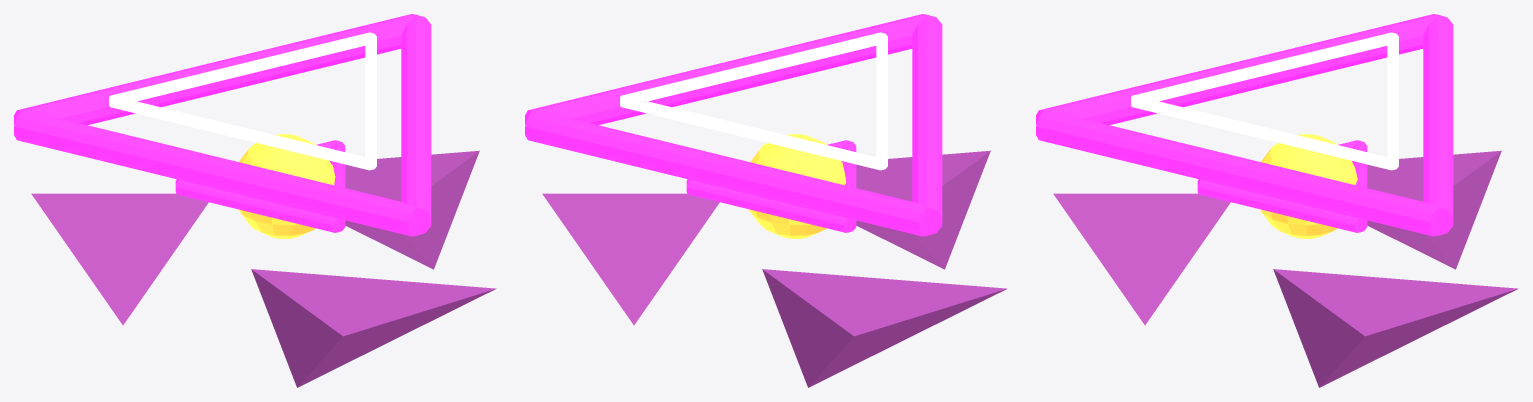
The model's file is triad_splitter.glb.
The picture shows the model from 3 angles, left to right: view 1: azimuth 30°, elevation 25°; view 2: azimuth 150°, elevation 25°; view 3: azimuth 270°, elevation 25°; orthographic projection.
Parts seen in each view (by area): view 1: TriadShard0, TriadReadabilityTriangleRoute2, TriadShard2, TriadReadabilityTriangleRoute1, TriadShard1, TriadReadabilityTriangleRoute0, TriadReadabilityWhiteRoute2, TriadOrangeCore, TriadReadabilityWhiteRoute1, TriadShardEdge02, TriadReadabilityWhiteRoute0, TriadShardEdge00; view 2: TriadShard2, TriadReadabilityTriangleRoute1, TriadShard1, TriadReadabilityTriangleRoute0, TriadShard0, TriadReadabilityTriangleRoute2, TriadReadabilityWhiteRoute1, TriadOrangeCore, TriadReadabilityWhiteRoute0, TriadShardEdge01, TriadReadabilityWhiteRoute2, TriadShardEdge02; view 3: TriadShard1, TriadReadabilityTriangleRoute0, TriadShard0, TriadReadabilityTriangleRoute2, TriadShard2, TriadReadabilityTriangleRoute1, TriadOrangeCore, TriadReadabilityWhiteRoute0, TriadReadabilityWhiteRoute2, TriadShardEdge00, TriadReadabilityWhiteRoute1, TriadShardEdge01.
Boxes of the visible parts, <box> form: TriadShard0: <box>251,269,496,387</box>; TriadReadabilityTriangleRoute2: <box>14,111,416,236</box>; TriadShard2: <box>31,193,208,325</box>; TriadReadabilityTriangleRoute1: <box>14,14,415,125</box>; TriadShard1: <box>345,150,479,269</box>; TriadReadabilityTriangleRoute0: <box>401,14,431,235</box>; TriadReadabilityWhiteRoute2: <box>109,96,370,170</box>; TriadOrangeCore: <box>238,134,335,238</box>; TriadReadabilityWhiteRoute1: <box>109,32,370,101</box>; TriadShardEdge02: <box>175,180,337,232</box>; TriadReadabilityWhiteRoute0: <box>365,32,376,169</box>; TriadShardEdge00: <box>329,140,345,232</box>; TriadShard2: <box>762,269,1007,387</box>; TriadReadabilityTriangleRoute1: <box>525,111,927,236</box>; TriadShard1: <box>542,193,719,325</box>; TriadReadabilityTriangleRoute0: <box>525,14,926,125</box>; TriadShard0: <box>856,150,990,269</box>; TriadReadabilityTriangleRoute2: <box>912,14,942,235</box>; TriadReadabilityWhiteRoute1: <box>620,96,881,170</box>; TriadOrangeCore: <box>748,134,846,238</box>; TriadReadabilityWhiteRoute0: <box>620,32,881,101</box>; TriadShardEdge01: <box>686,180,848,232</box>; TriadReadabilityWhiteRoute2: <box>876,32,887,169</box>; TriadShardEdge02: <box>841,140,856,232</box>; TriadShard1: <box>1273,269,1518,387</box>; TriadReadabilityTriangleRoute0: <box>1036,111,1438,236</box>; TriadShard0: <box>1053,193,1230,325</box>; TriadReadabilityTriangleRoute2: <box>1036,14,1437,125</box>; TriadShard2: <box>1367,150,1501,269</box>; TriadReadabilityTriangleRoute1: <box>1423,14,1453,235</box>; TriadOrangeCore: <box>1260,134,1357,238</box>; TriadReadabilityWhiteRoute0: <box>1131,96,1392,170</box>; TriadReadabilityWhiteRoute2: <box>1131,32,1392,101</box>; TriadShardEdge00: <box>1197,180,1359,232</box>; TriadReadabilityWhiteRoute1: <box>1387,32,1398,169</box>; TriadShardEdge01: <box>1352,140,1367,232</box>.
Size of the model in its own units: 1.53 by 0.7298 by 1.48.
